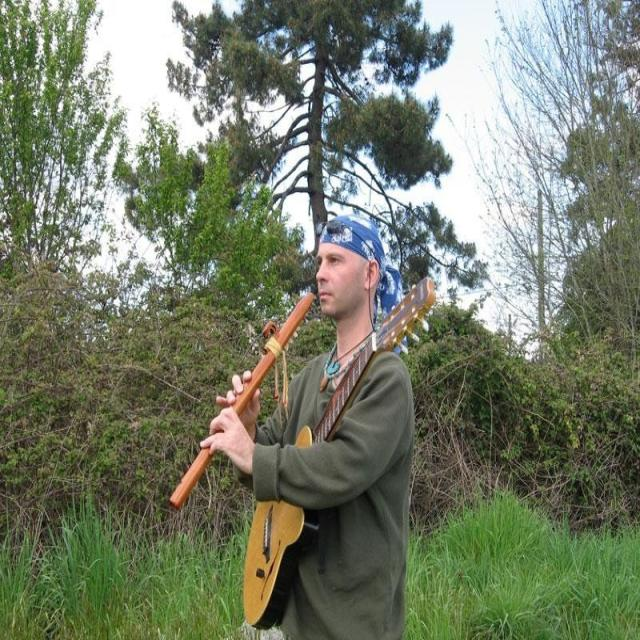guitar: (240, 271, 439, 629)
